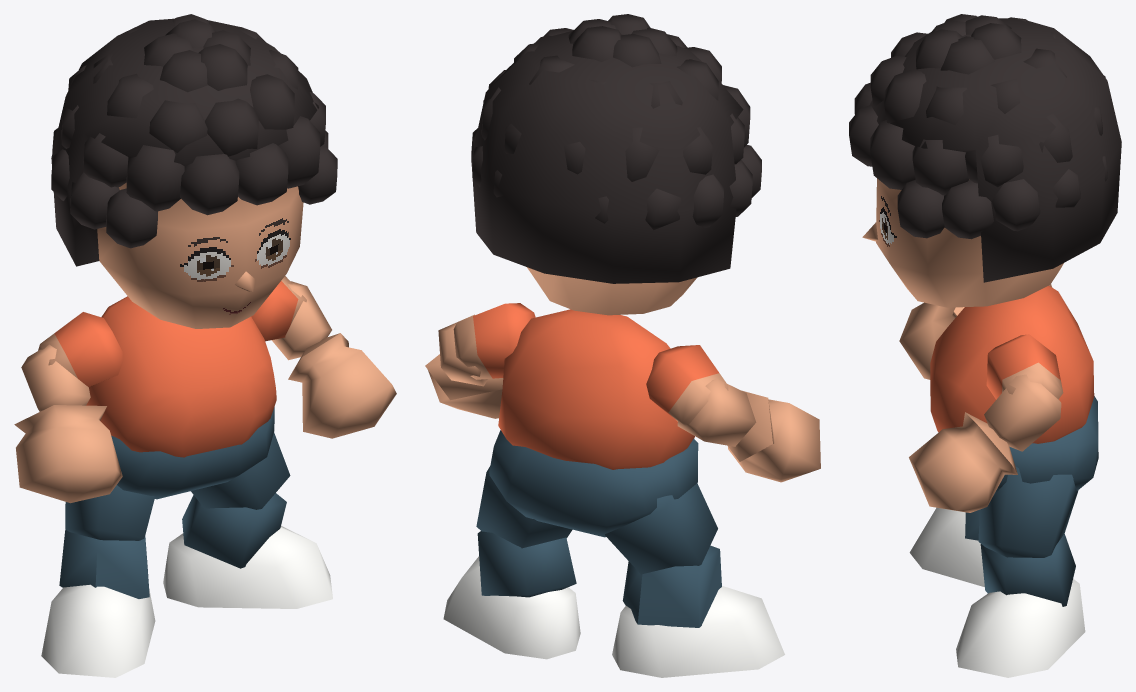
The picture shows the model from 3 angles, left to right: view 1: azimuth 30°, elevation 25°; view 2: azimuth 150°, elevation 25°; view 3: azimuth 270°, elevation 25°; orthographic projection. The views are drawn at different scales.
Parts seen in each view (by area): view 1: Character; view 2: Character; view 3: Character.
Boxes of the visible parts, left/top/right/bottom form: Character: left=14, top=14, right=396, bottom=677; Character: left=425, top=14, right=820, bottom=677; Character: left=849, top=14, right=1121, bottom=677.
Bounding box in the file's own units: 1.98 × 2.95 × 1.25.
9 materials, 2 textured.
